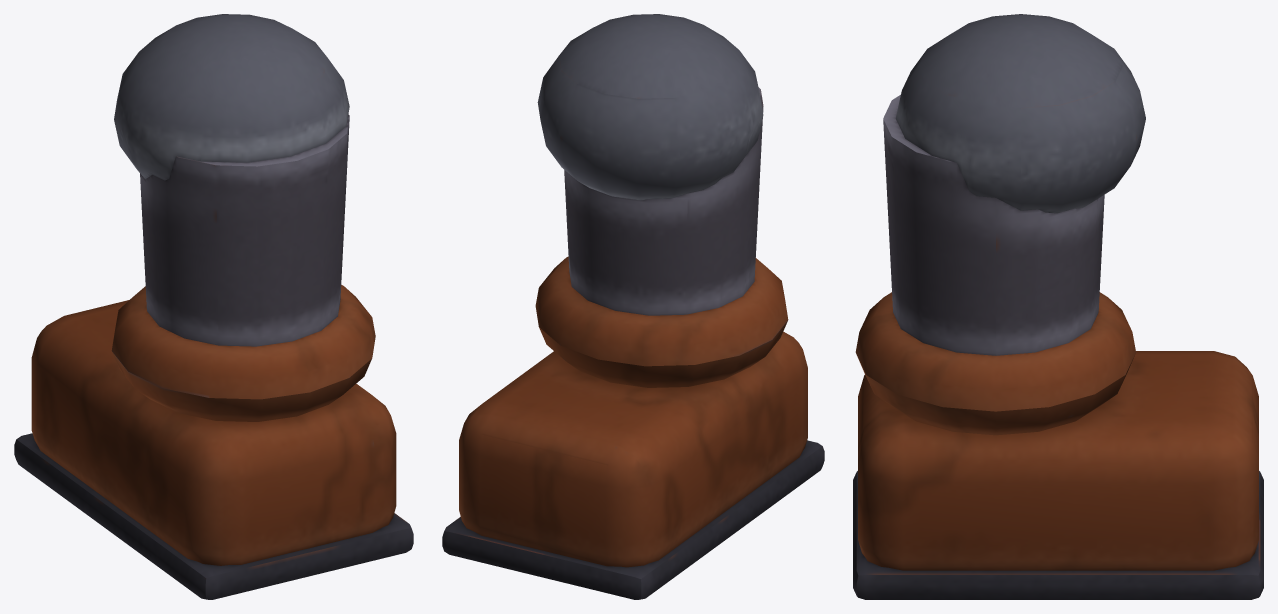
The model's file is shin_l.glb.
3 views of the same model, side by side, from view 1: azimuth 30°, elevation 25°; view 2: azimuth 150°, elevation 25°; view 3: azimuth 270°, elevation 25° (orthographic). The views are drawn at different scales.
Parts seen in each view (by area): view 1: shin_l; view 2: shin_l; view 3: shin_l.
Part boxes in pixels (x1,y1,x2,y2): shin_l: (14,14,413,599); shin_l: (442,14,824,599); shin_l: (853,14,1263,599).
Bounding box in the file's own units: 0.112 × 0.23 × 0.164.
Materials: 4 (4 with a texture image).
